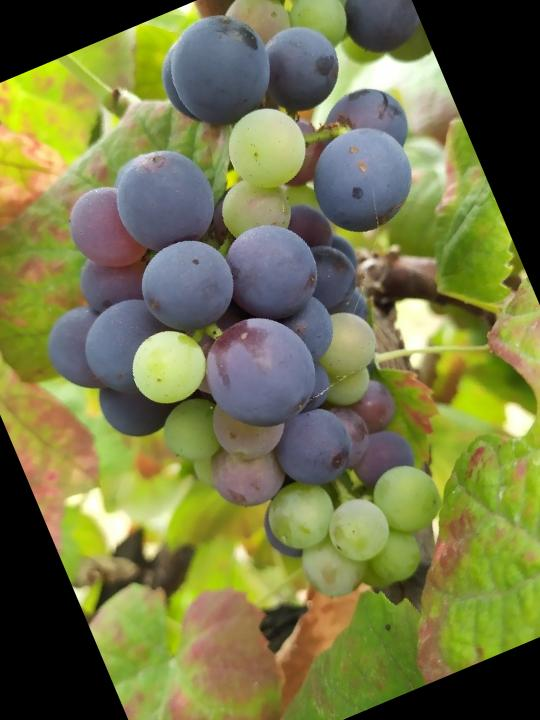grape: (0, 90, 482, 678)
